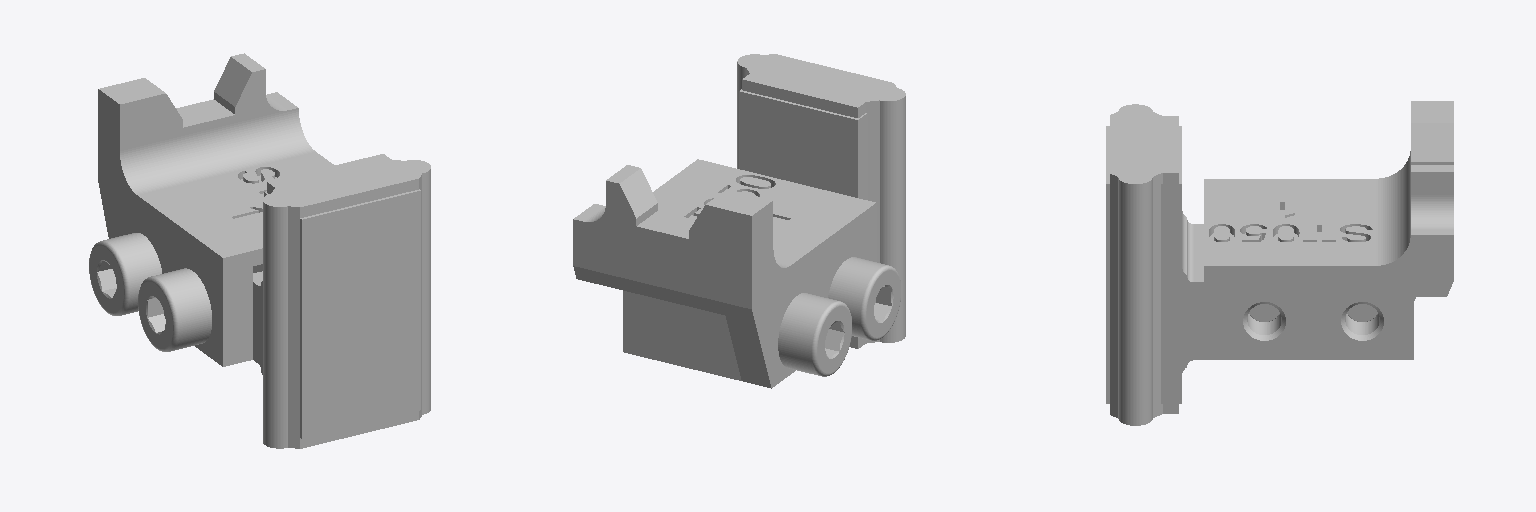
The model's file is 4231-05-2023-00_Megfogo_jobb.obj.
3 views of the same model, side by side, from view 1: azimuth 30°, elevation 25°; view 2: azimuth 150°, elevation 25°; view 3: azimuth 270°, elevation 25° (orthographic).
Parts seen in each view (by area): view 1: 4231_05_2023_00_Megfogo; view 2: 4231_05_2023_00_Megfogo; view 3: 4231_05_2023_00_Megfogo.
Boxes of the visible parts, x1=… form: 4231_05_2023_00_Megfogo: x1=89, y1=53, x2=430, y2=448; 4231_05_2023_00_Megfogo: x1=573, y1=54, x2=905, y2=388; 4231_05_2023_00_Megfogo: x1=1106, y1=101, x2=1453, y2=425.
Size of the model in its own units: 14.5 by 15.5 by 20.2.